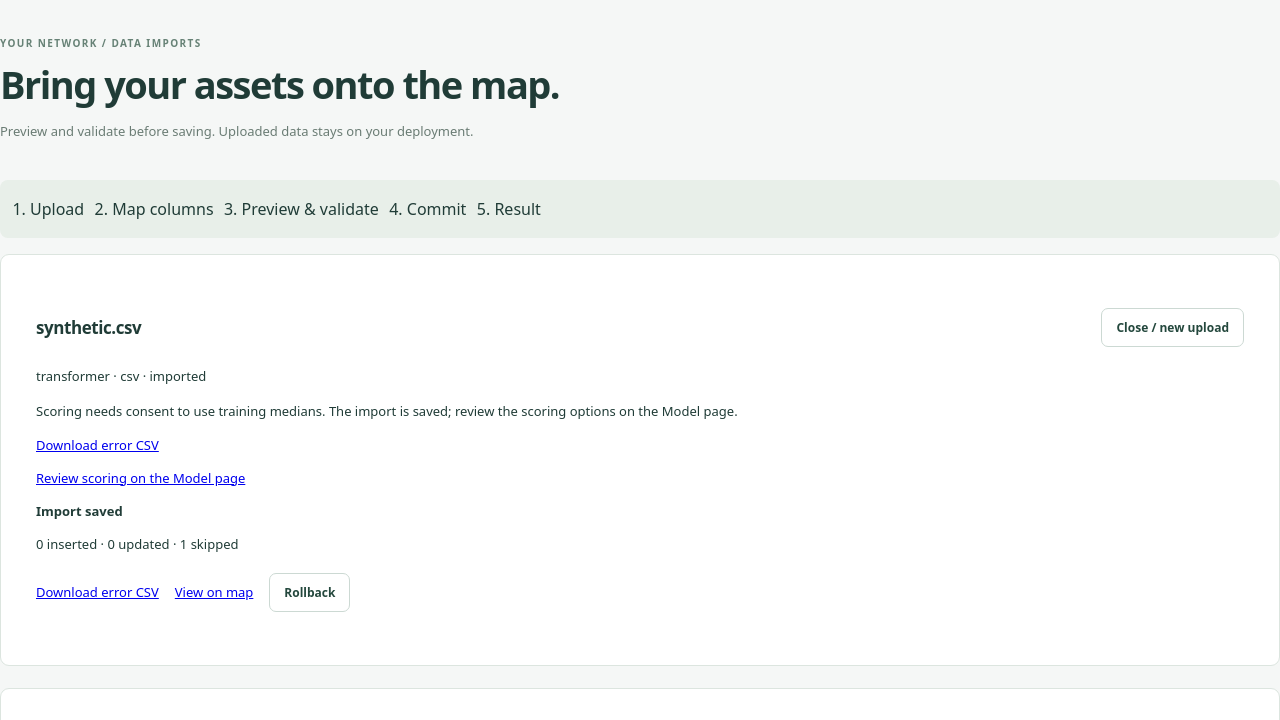
it: keeps an import saved when scoring fails and requires rollback confirmation
Expected: the heading "Import saved" is shown, left=36, top=502, right=123, bottom=520
Click the button "Rollback".
click(310, 592)  # box left=269, top=573, right=350, bottom=612
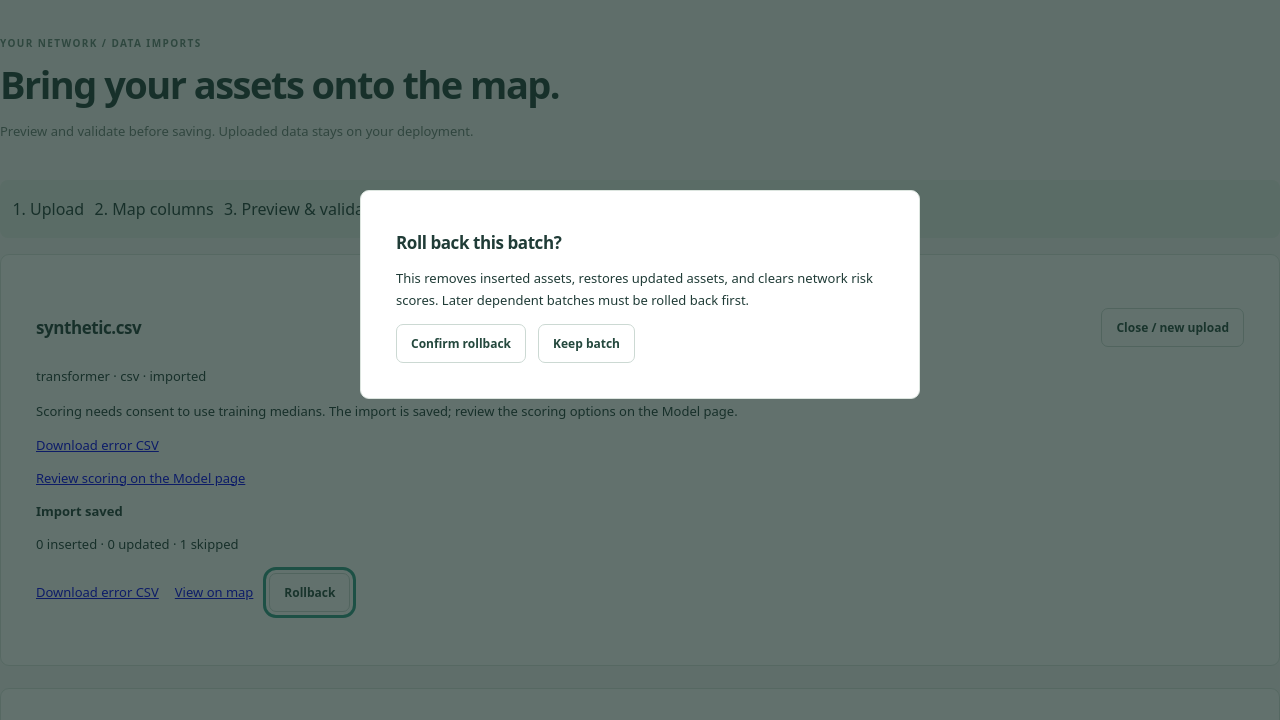
Result: the dialog is shown at left=360, top=190, right=920, bottom=399
Click the button "Keep batch".
click(586, 344)  # box left=538, top=324, right=635, bottom=363
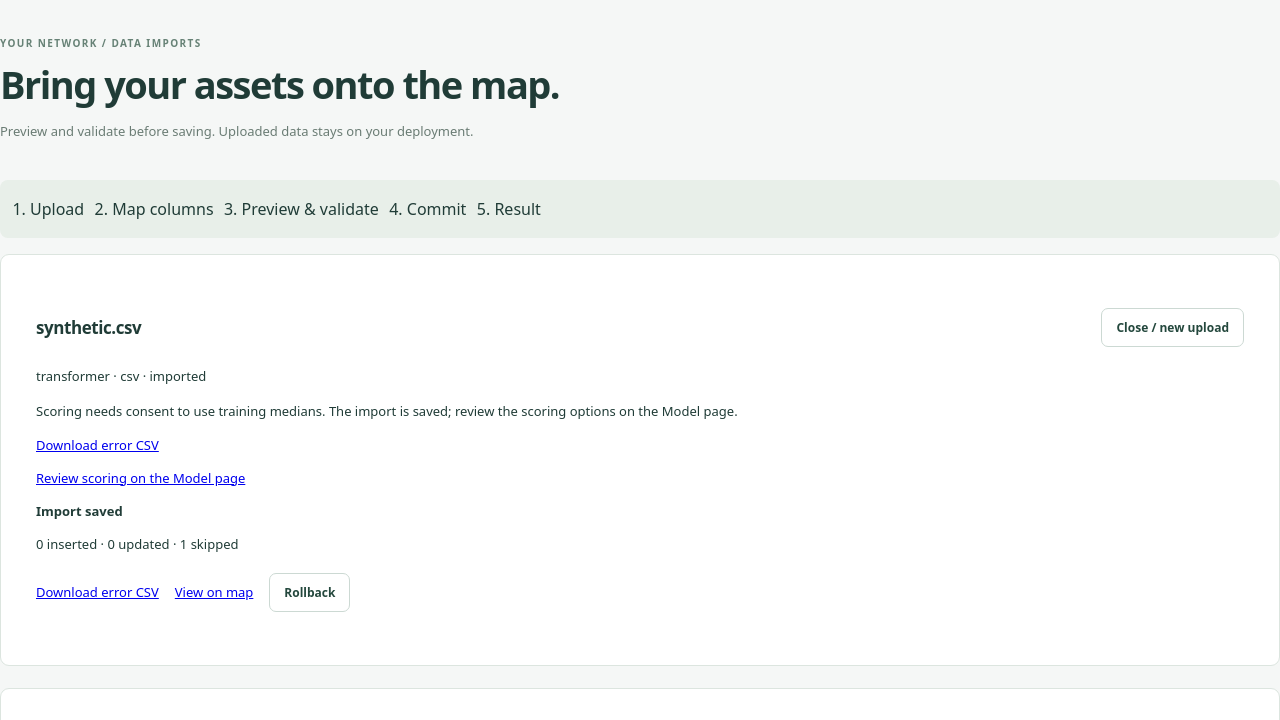
Result: the dialog is gone
